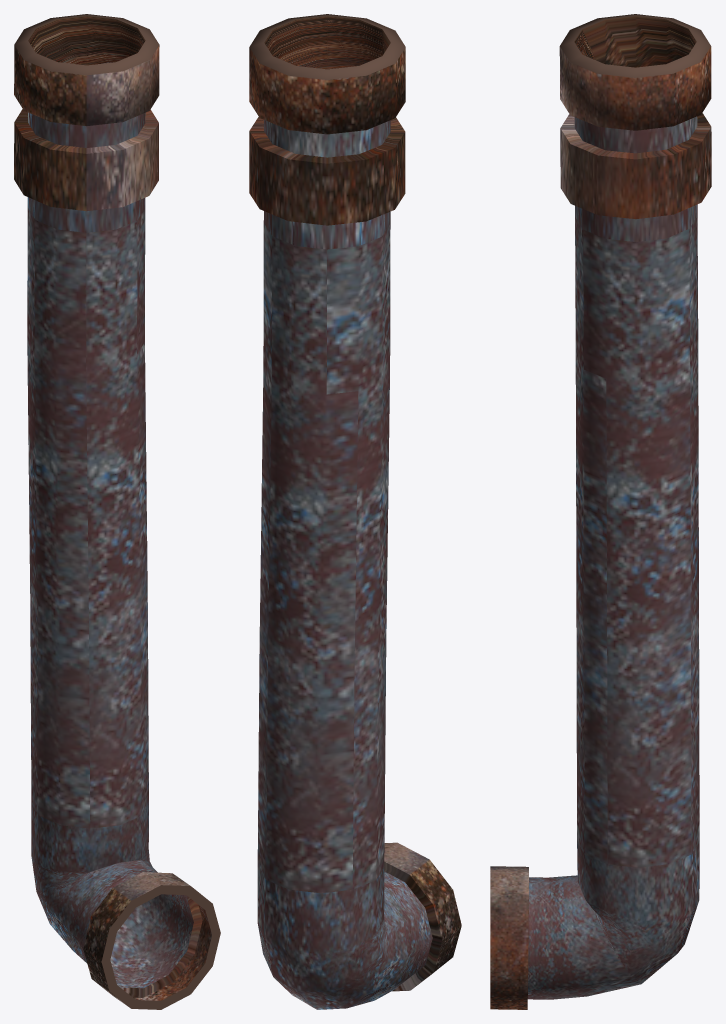
Rendered from TPM 2_FBX.fbx.
The picture shows the model from 3 angles, left to right: view 1: azimuth 30°, elevation 25°; view 2: azimuth 150°, elevation 25°; view 3: azimuth 270°, elevation 25°; orthographic projection. The views are drawn at different scales.
Visible parts, largest first — view 1: Tuberíia movil 2; view 2: Tuberíia movil 2; view 3: Tuberíia movil 2.
Boxes of the visible parts, left/top/right/bottom form: Tuberíia movil 2: left=14, top=14, right=220, bottom=1009; Tuberíia movil 2: left=249, top=14, right=461, bottom=1009; Tuberíia movil 2: left=490, top=14, right=711, bottom=1009.
Size of the model in its own units: 250 by 1727 by 361.
